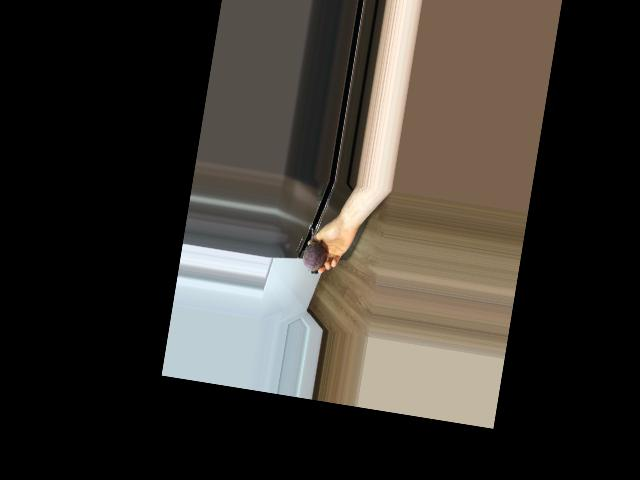beet: (301, 228, 329, 275)
